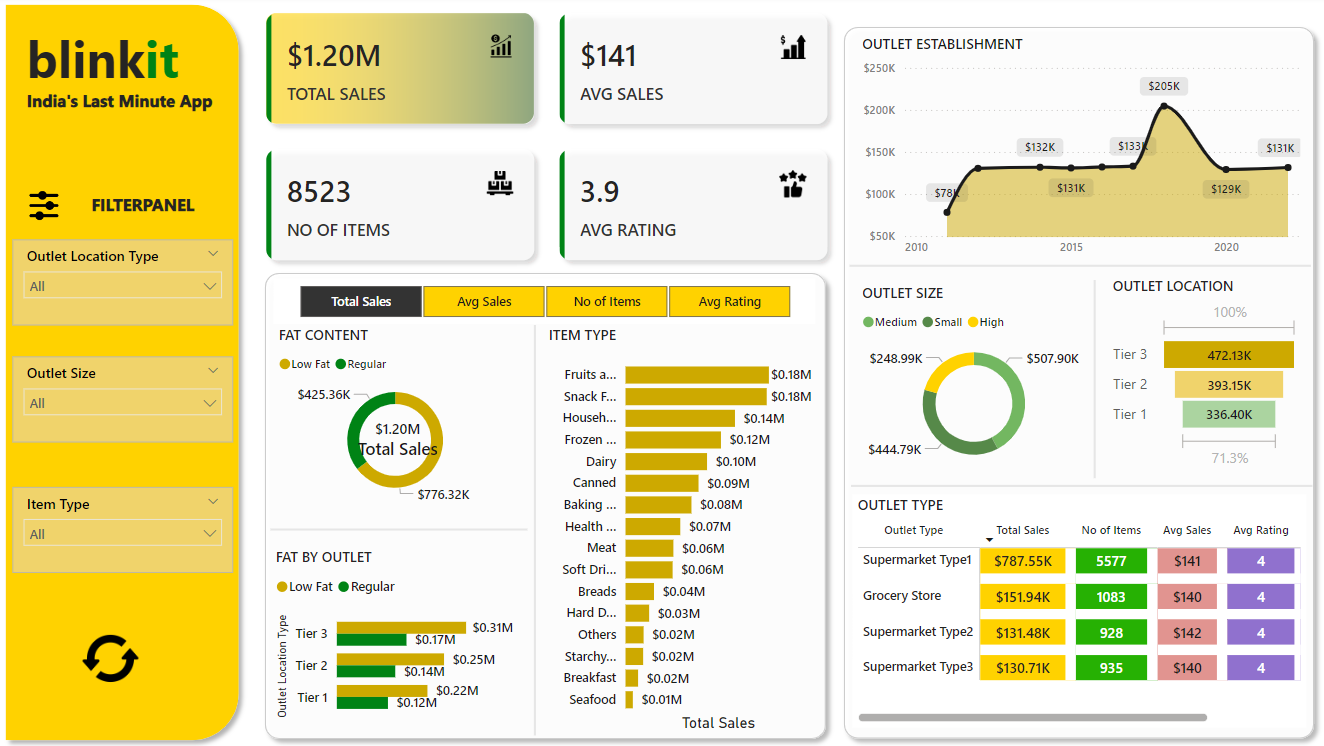

The page's visual inventory and layout, read from the dashboard file:
{"tool":"powerbi","page":{"name":"Page 1","canvas":[1280,720],"ordinal":0},"visuals":[{"type":"shape","box":[0,0,240.8,720.8],"z":0},{"type":"textbox","box":[24.2,21.2,180.2,93.9],"z":1000},{"type":"textbox","box":[24.2,84.8,201.4,50],"z":2000},{"type":"cardVisual","fields":{"Data":["BlinkIT Grocery Data.Total Sales","BlinkIT Grocery Data.Avg Sales","BlinkIT Grocery Data.No of Items","BlinkIT Grocery Data.Avg Rating"]},"box":[240,0,570.7,270.2],"z":3000},{"type":"shape","box":[247.6,257,553.7,463],"z":4000},{"type":"donutChart","title":"FAT CONTENT","fields":{"Y":["BlinkIT Grocery Data.Total Sales"],"Category":["BlinkIT Grocery Data.Item Fat Content"]},"box":[265,315,231.7,174.1],"z":5000},{"type":"slicer","fields":{"Values":["Metrices.Metrices"]},"box":[265.4,271,517.4,43.6],"z":6000},{"type":"cardVisual","fields":{"Data":["BlinkIT Grocery Data.Total Sales"]},"box":[318,386.1,131.7,66.6],"z":7000},{"type":"clusteredBarChart","title":"FAT BY OUTLET","fields":{"Y":["BlinkIT Grocery Data.Total Sales"],"Category":["BlinkIT Grocery Data.Outlet Location Type"],"Series":["BlinkIT Grocery Data.Item Fat Content"]},"box":[262,526.9,236.2,172.6],"z":8000},{"type":"shape","box":[262,501.2,245.3,18.2],"z":9000},{"type":"shape","box":[507.3,315,15.1,392.2],"z":10000},{"type":"barChart","title":"ITEM TYPE","fields":{"Y":["BlinkIT Grocery Data.Total Sales"],"Category":["BlinkIT Grocery Data.Item Type"]},"box":[522.4,315,260.4,392.2],"z":11000},{"type":"shape","box":[800.7,21.5,467,697.6],"z":12000},{"type":"lineChart","title":"OUTLET ESTABLISHMENT","fields":{"Category":["BlinkIT Grocery Data.Outlet Establishment Year"],"Y":["BlinkIT Grocery Data.Total Sales"]},"box":[822.2,37.2,428.3,220.6],"z":13000},{"type":"shape","box":[814.6,245.3,440.6,27.3],"z":14000},{"type":"donutChart","title":"OUTLET SIZE","fields":{"Y":["BlinkIT Grocery Data.Total Sales"],"Category":["BlinkIT Grocery Data.Outlet Size"]},"box":[822.2,275.6,222.6,184.7],"z":15000},{"type":"shape","box":[1037.2,272.6,24.2,189.3],"z":16000},{"type":"funnel","title":"OUTLET LOCATION","fields":{"Y":["Sum(BlinkIT Grocery Data.Sales)"],"Category":["BlinkIT Grocery Data.Outlet Location Type"]},"box":[1061.5,268,187.8,189.3],"z":17000},{"type":"shape","box":[816.2,461.8,440.6,15.1],"z":18000},{"type":"pivotTable","title":"OUTLET TYPE","fields":{"Rows":["BlinkIT Grocery Data.Outlet Type"],"Values":["BlinkIT Grocery Data.Total Sales","BlinkIT Grocery Data.No of Items","BlinkIT Grocery Data.Avg Sales","BlinkIT Grocery Data.Avg Rating","Avg(BlinkIT Grocery Data.Item Visibility)"]},"box":[817.7,477,433.1,222.6],"z":19000},{"type":"slicer","fields":{"Values":["BlinkIT Grocery Data.Outlet Location Type"]},"box":[15.1,233.2,210.5,81.8],"z":20000},{"type":"slicer","fields":{"Values":["BlinkIT Grocery Data.Outlet Size"]},"box":[15.1,345.2,210.5,81.8],"z":21000},{"type":"slicer","fields":{"Values":["BlinkIT Grocery Data.Item Type"]},"box":[15.1,469.4,210.5,81.8],"z":22000},{"type":"image","box":[77.2,599.6,63.6,66.6],"z":23000},{"type":"image","box":[15.1,178.7,60.6,43.9],"z":24000},{"type":"textbox","box":[75.7,183.2,128.7,39.4],"z":25000}]}

Visuals, with their boxes in screenshot pixels (x1, y1, x2, y2), scaled from the page's 1280x720 canvas onto the 1324x746 screenshot:
shape: [0, 0, 249, 745]
textbox: [25, 22, 211, 119]
textbox: [25, 88, 233, 140]
cardVisual - BlinkIT Grocery Data.Total Sales x BlinkIT Grocery Data.Avg Sales: [248, 0, 839, 280]
shape: [256, 266, 829, 745]
"FAT CONTENT" donutChart: [274, 326, 514, 507]
slicer - Metrices.Metrices: [275, 281, 810, 326]
cardVisual - BlinkIT Grocery Data.Total Sales: [329, 400, 465, 469]
"FAT BY OUTLET" clusteredBarChart: [271, 546, 515, 725]
shape: [271, 519, 525, 538]
shape: [525, 326, 540, 733]
"ITEM TYPE" barChart: [540, 326, 810, 733]
shape: [828, 22, 1311, 745]
"OUTLET ESTABLISHMENT" lineChart: [850, 39, 1293, 267]
shape: [843, 254, 1298, 282]
"OUTLET SIZE" donutChart: [850, 286, 1081, 477]
shape: [1073, 282, 1098, 479]
"OUTLET LOCATION" funnel: [1098, 278, 1292, 474]
shape: [844, 478, 1300, 494]
"OUTLET TYPE" pivotTable: [846, 494, 1294, 725]
slicer - BlinkIT Grocery Data.Outlet Location Type: [16, 242, 233, 326]
slicer - BlinkIT Grocery Data.Outlet Size: [16, 358, 233, 442]
slicer - BlinkIT Grocery Data.Item Type: [16, 486, 233, 571]
image: [80, 621, 146, 690]
image: [16, 185, 78, 231]
textbox: [78, 190, 211, 231]
